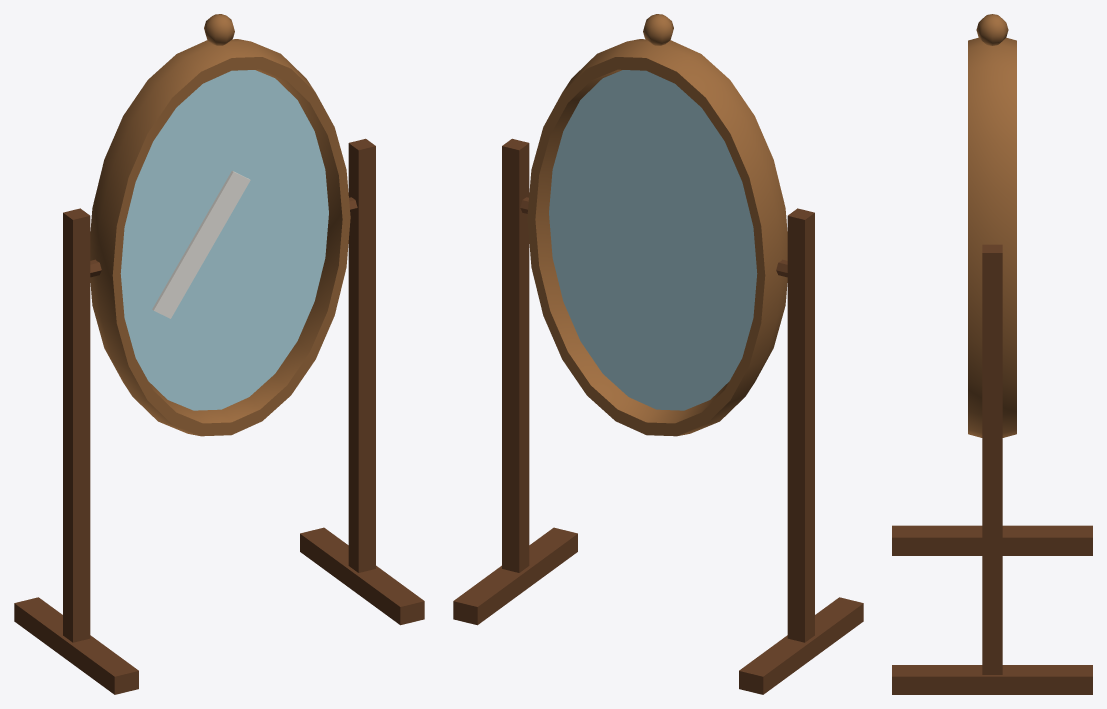
The model's file is mirror.glb.
The picture shows the model from 3 angles, left to right: view 1: azimuth 30°, elevation 25°; view 2: azimuth 150°, elevation 25°; view 3: azimuth 270°, elevation 25°; orthographic projection.
Visible parts, largest first — view 1: Mirror glass, Mirror frame, Mirror posts, Mirror feet, Mirror shine, Mirror finial; view 2: Mirror glass, Mirror frame, Mirror posts, Mirror feet, Mirror finial; view 3: Mirror frame, Mirror feet, Mirror posts, Mirror finial.
Boxes of the visible parts, x1,y1,x2,y2 form: Mirror glass: (120, 70, 328, 410); Mirror frame: (90, 39, 350, 436); Mirror posts: (63, 138, 375, 642); Mirror feet: (14, 527, 424, 694); Mirror shine: (152, 171, 250, 318); Mirror finial: (204, 14, 234, 45); Mirror glass: (549, 70, 757, 410); Mirror frame: (527, 39, 787, 436); Mirror posts: (502, 138, 814, 642); Mirror feet: (453, 527, 863, 694); Mirror finial: (643, 14, 673, 45); Mirror frame: (968, 37, 1016, 437); Mirror feet: (892, 525, 1092, 694); Mirror posts: (982, 244, 1002, 674); Mirror finial: (976, 14, 1008, 45).
Size of the model in its own units: 0.89 by 1.66 by 0.5.
